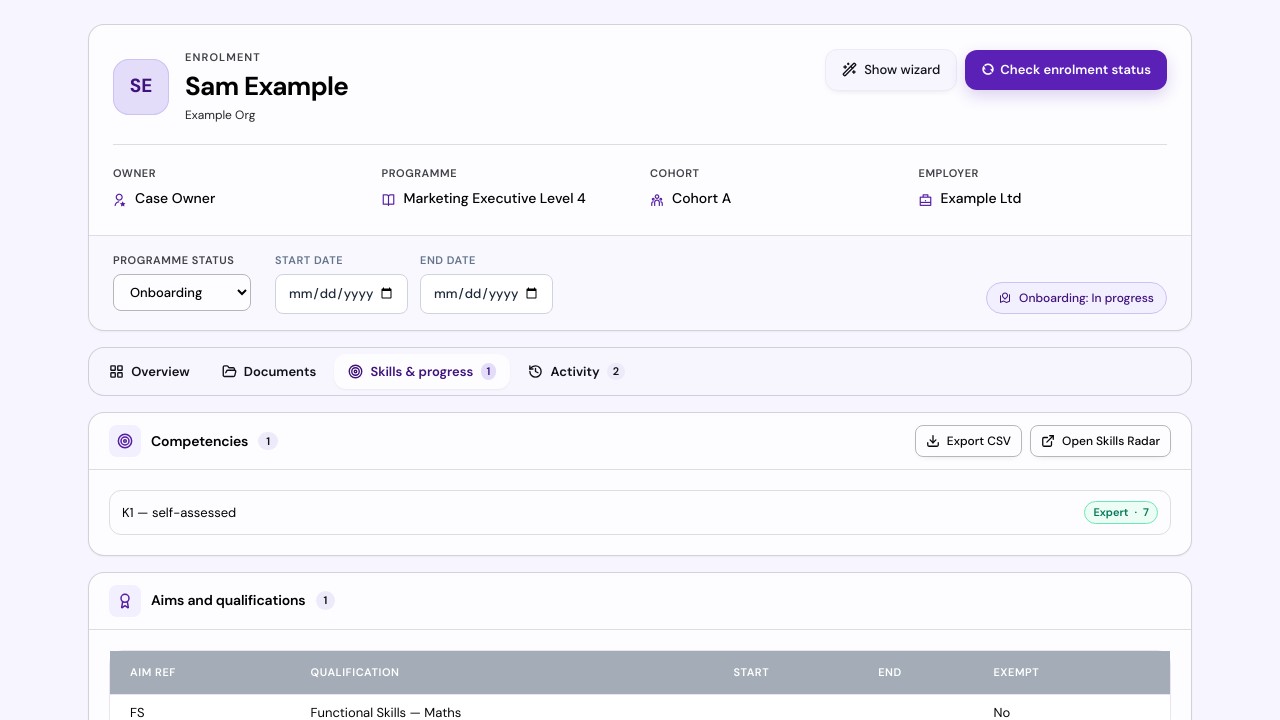
Test: the enrolment board › shows older imported data only for learners who have it
Click the tab "Overview" at {"x": 149, "y": 371}, box [95,354,204,389]
(page scrolled)
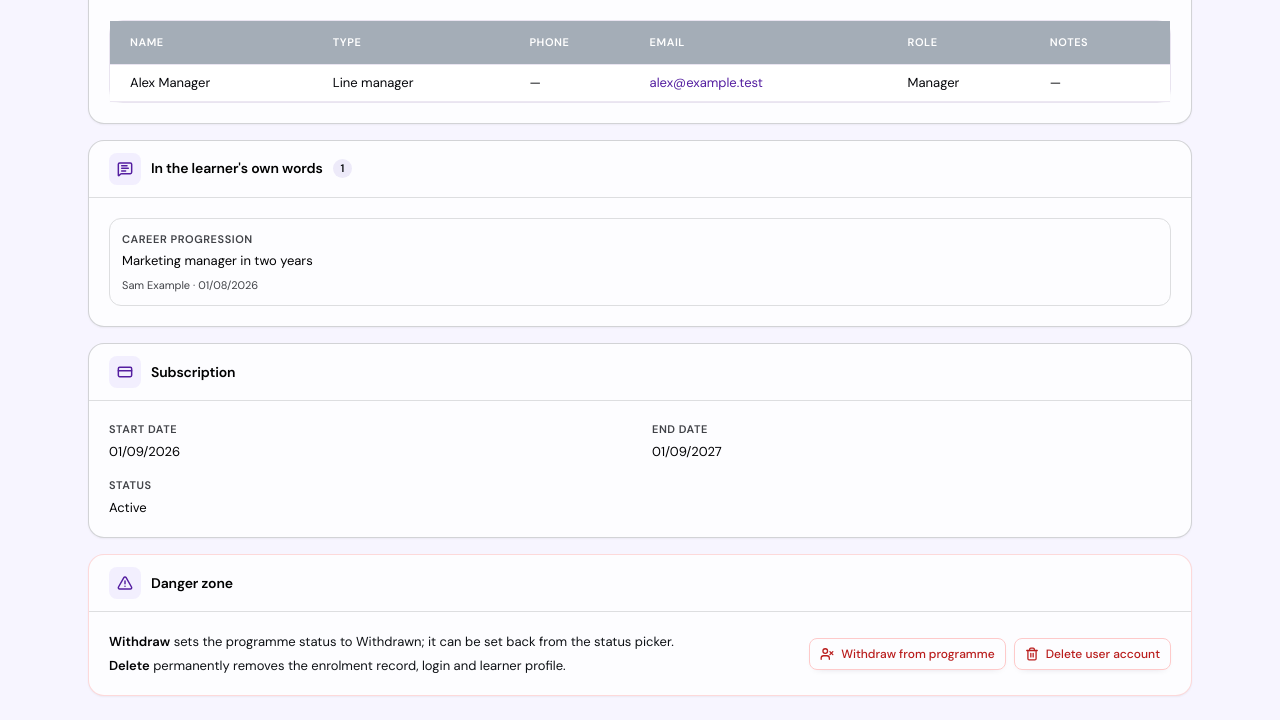
expect the element "Subscription" is shown: met, box [88,343,1192,538]
